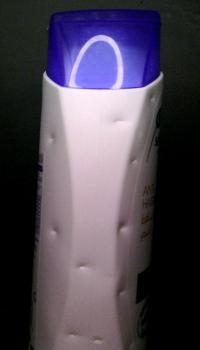dent_marginal: (64, 326, 86, 343), (72, 260, 94, 276), (44, 222, 63, 239), (110, 221, 131, 235), (110, 116, 133, 128), (143, 92, 161, 107), (116, 284, 130, 302), (48, 133, 64, 148), (88, 334, 106, 345), (126, 155, 140, 168), (124, 337, 135, 348)
